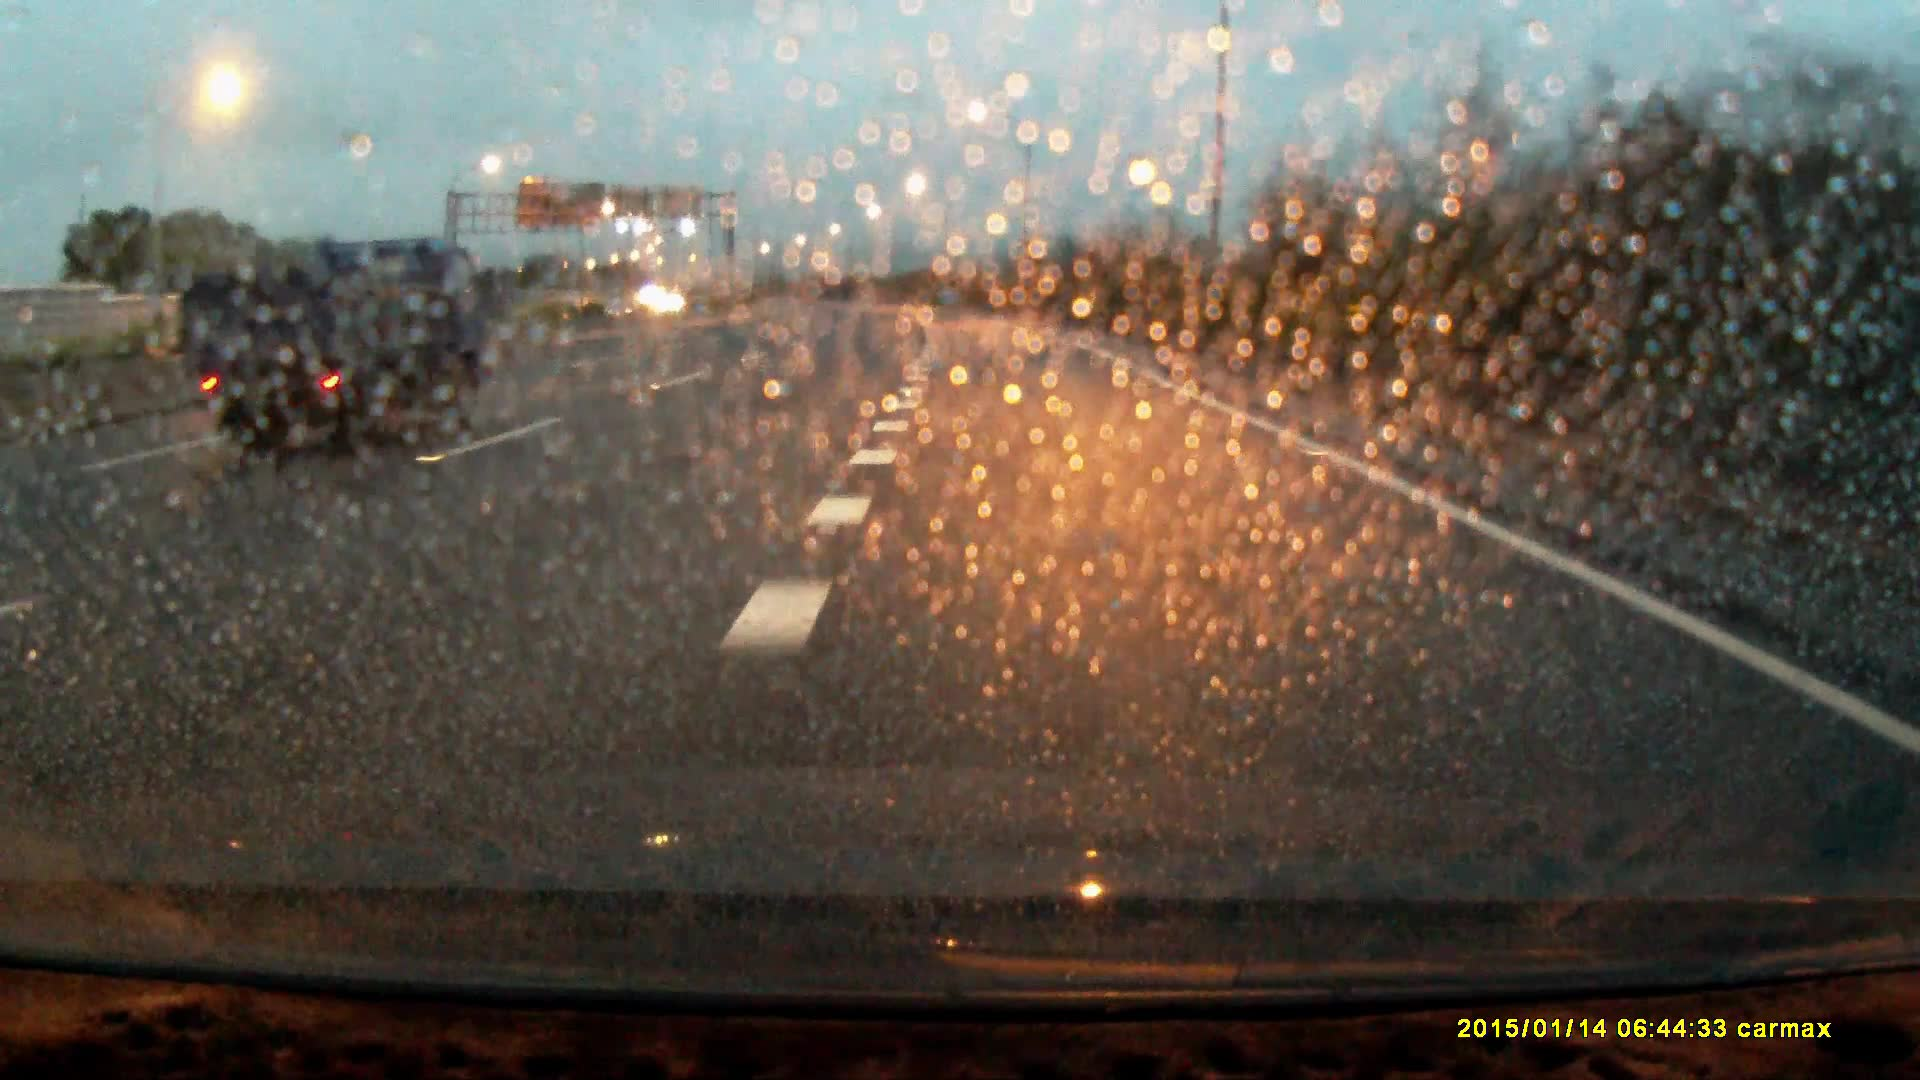vehicle: (190, 233, 473, 465)
